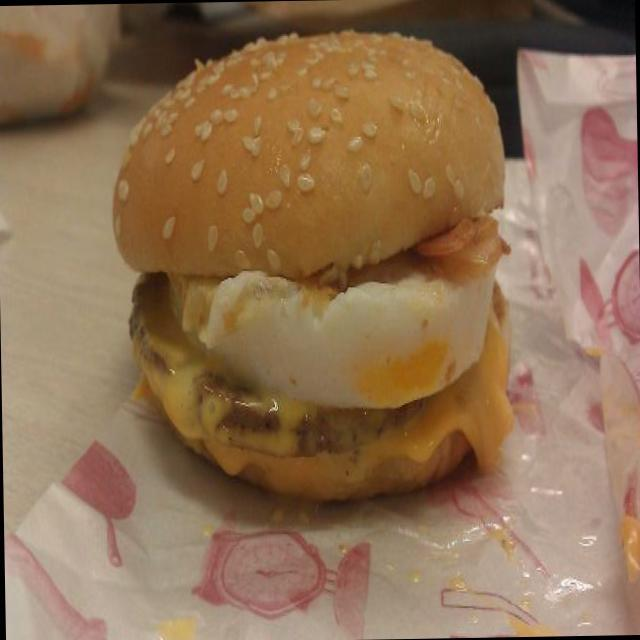Hamburger: (100, 21, 523, 499)
